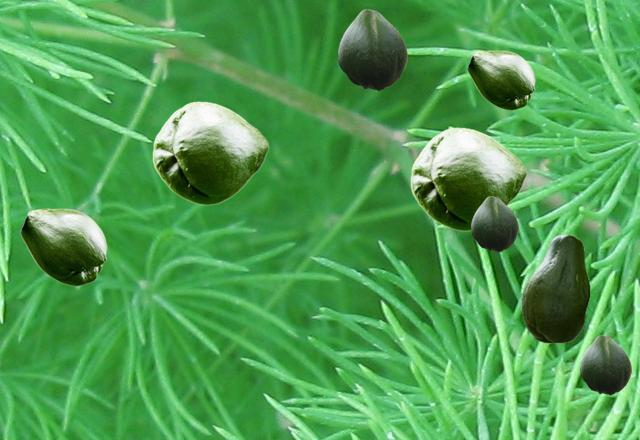sayote: (410, 127, 526, 230), (152, 101, 268, 204), (521, 234, 589, 342), (20, 208, 106, 285), (338, 9, 406, 90), (467, 50, 534, 109), (580, 335, 630, 394), (471, 196, 517, 251)
